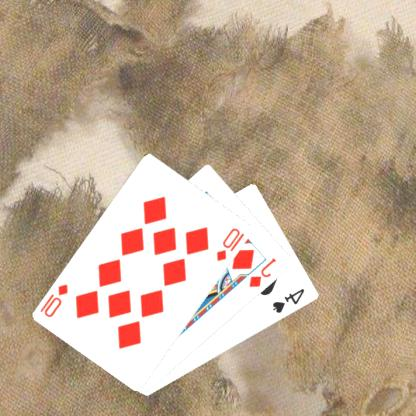10D: (39, 281, 72, 319), (216, 225, 247, 263)
4S: (272, 286, 308, 315)
JD: (248, 255, 280, 289)
